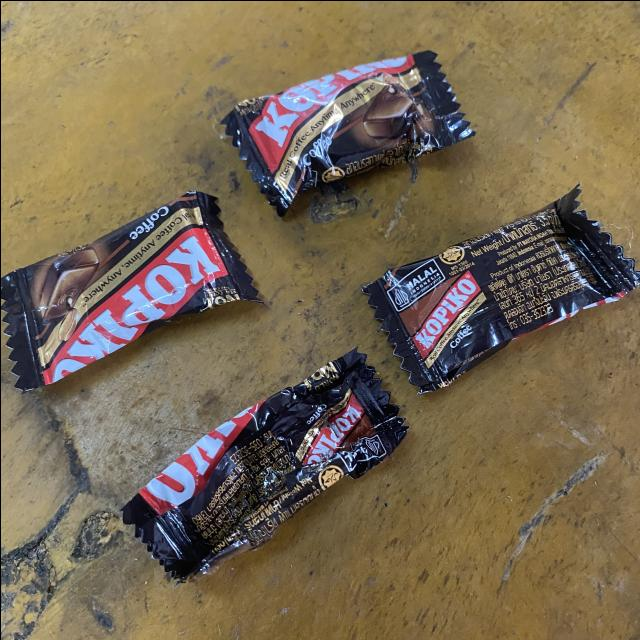plastik: (122, 348, 407, 579), (361, 185, 640, 392), (0, 190, 258, 390), (221, 50, 473, 215)
